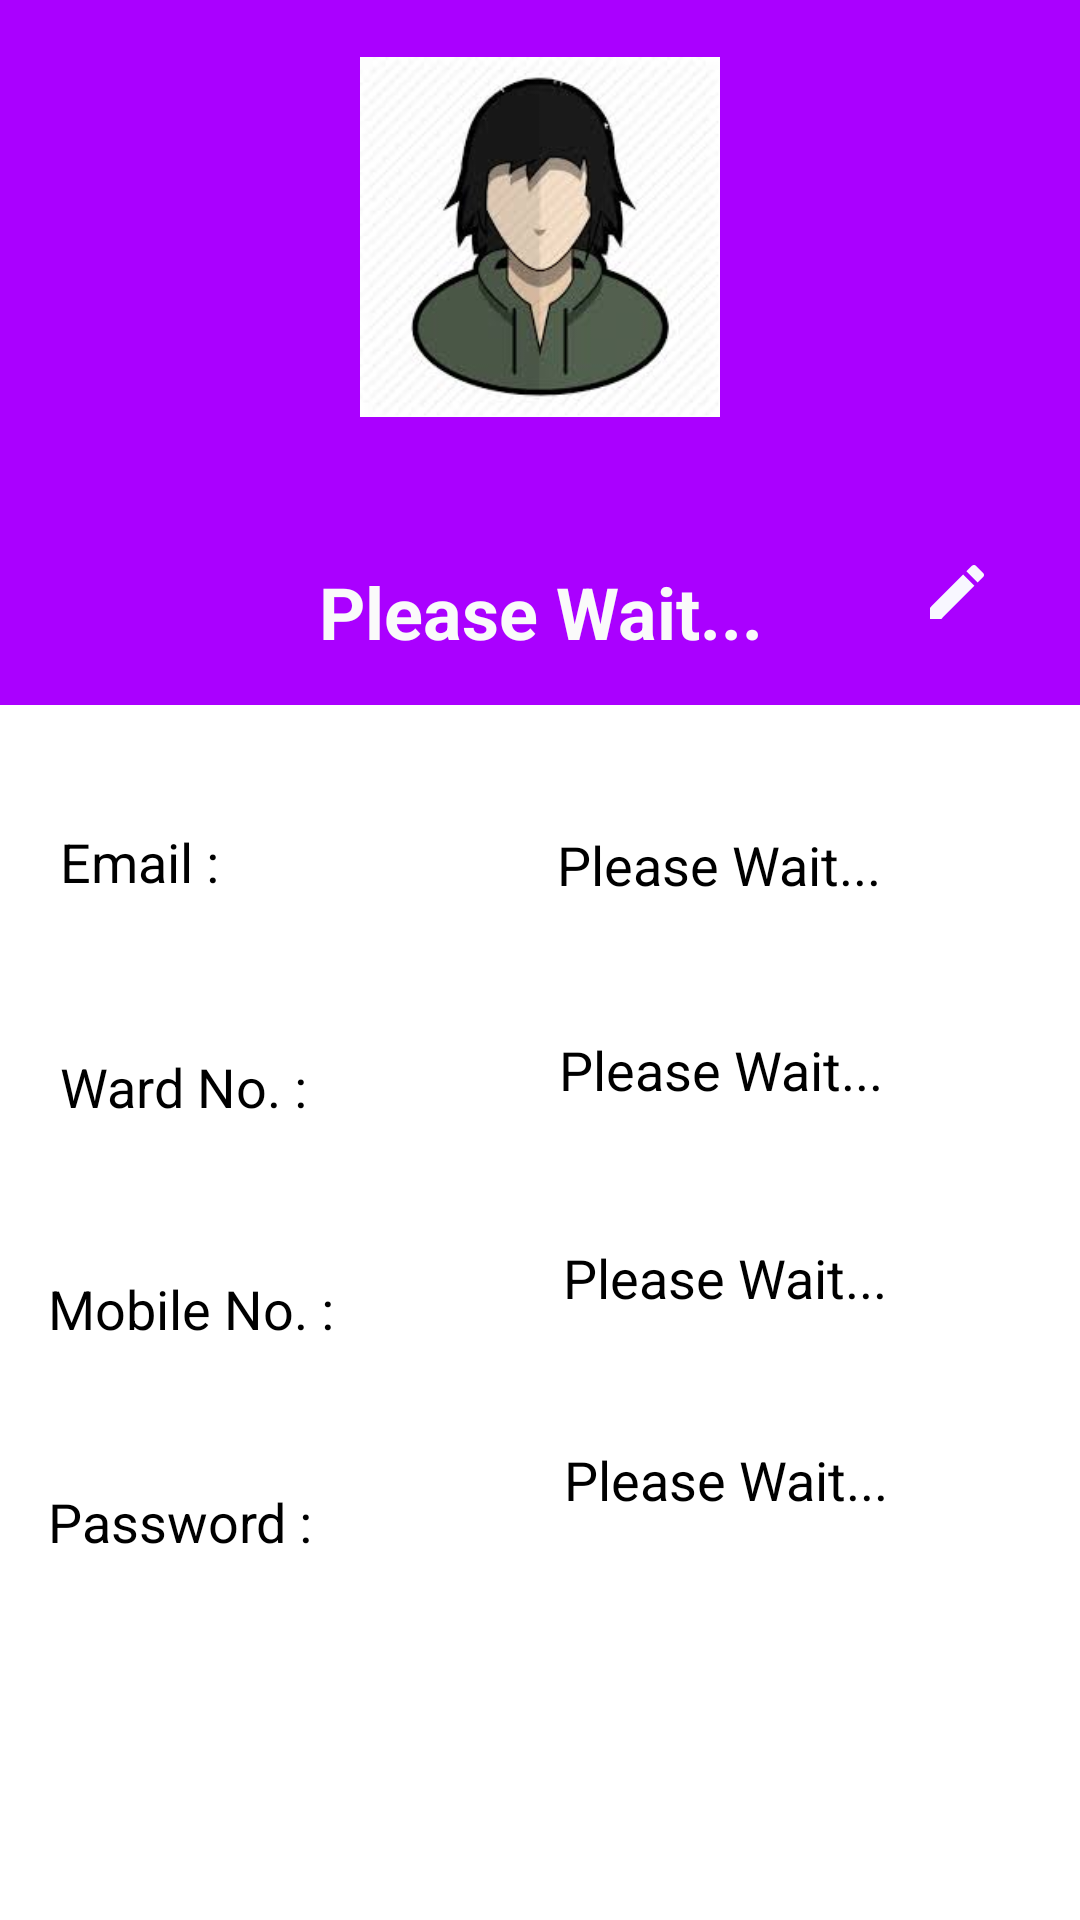

Screen size 1080px x 1920px. Icon name, then its center in pixels as point (x, y):
mode edit: point (957, 592)
